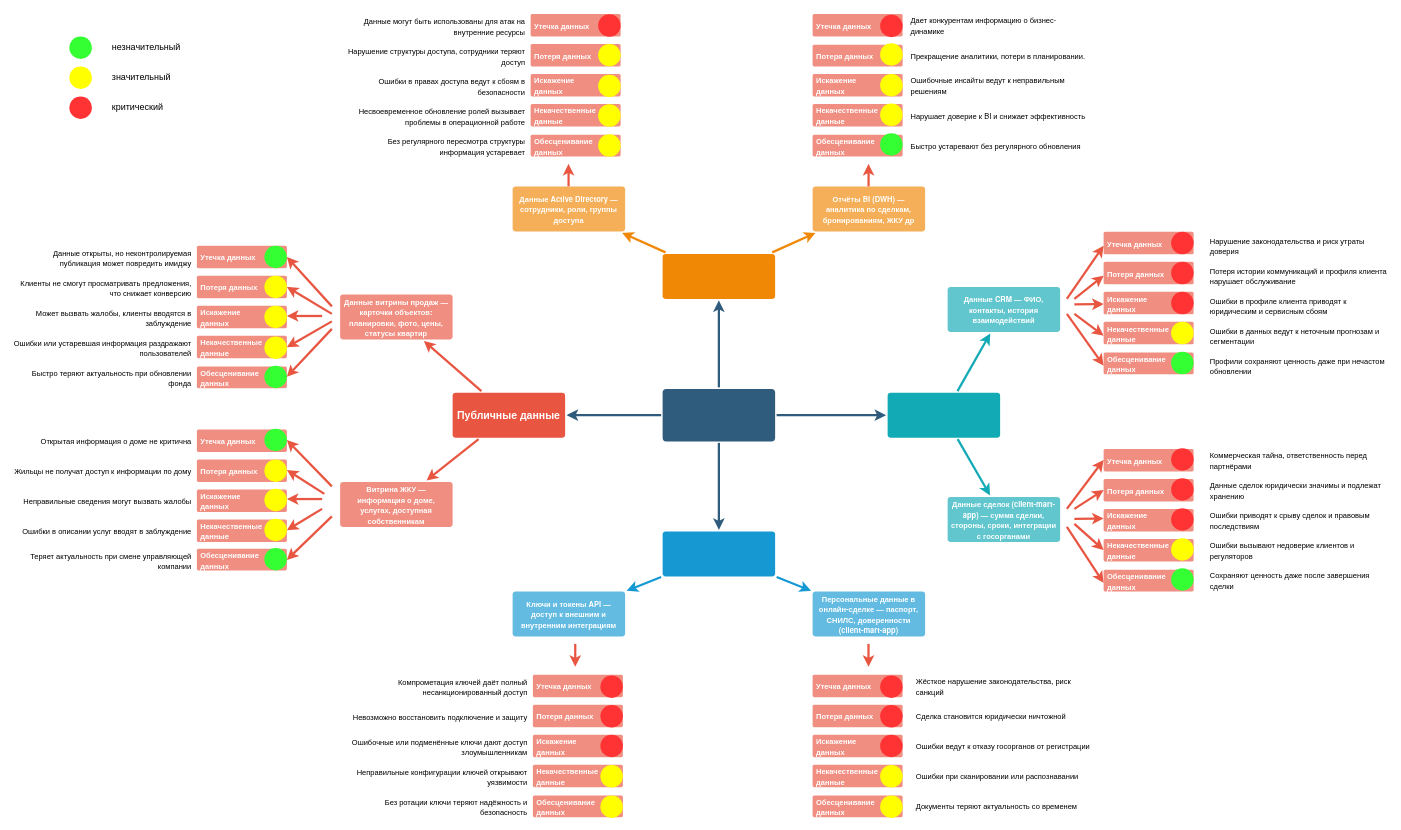
This 1401x830 diagram has some shape labels left out. Here are the shapes that lost their labels. From the top down, the centre of each, then its label:
point 718,276: Внутренние данные
point 718,414: Безопасность данных
point 943,414: Конфиденциальные данные
point 718,553: Секретные данные
